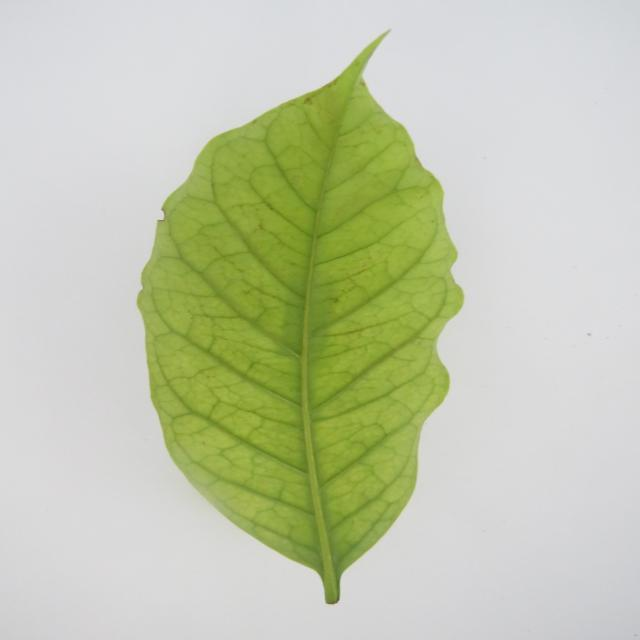DeficienciaNutricional-Calcio: (138, 35, 463, 604)
